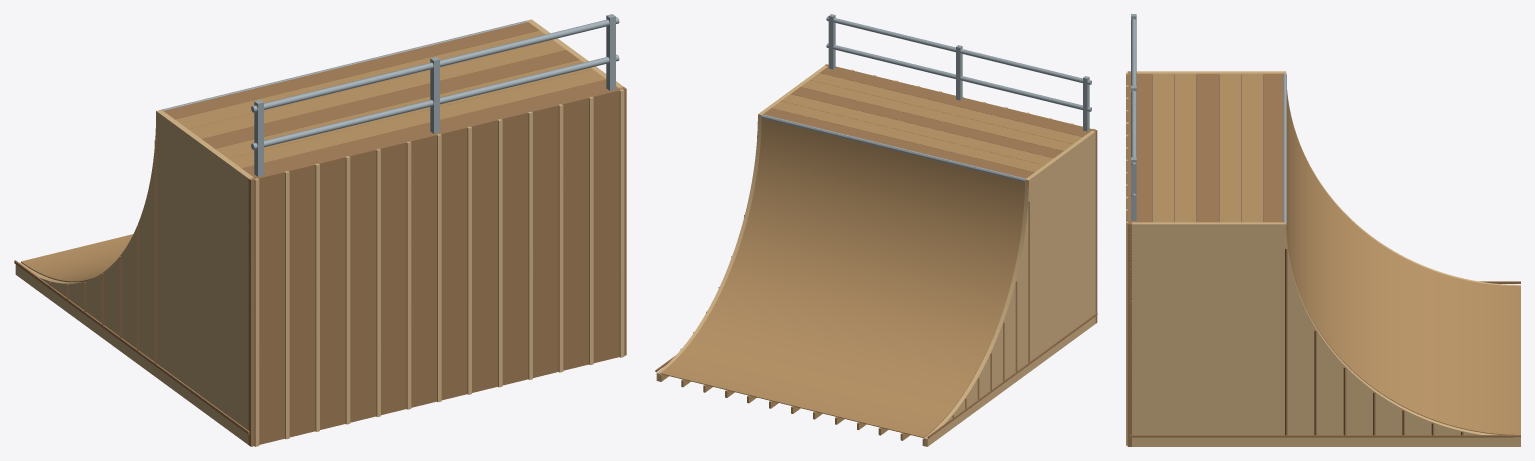
Rendered from skate_qp_round_large.glb.
The picture shows the model from 3 angles, left to right: view 1: azimuth 30°, elevation 25°; view 2: azimuth 150°, elevation 25°; view 3: azimuth 270°, elevation 25°; orthographic projection. The views are drawn at different scales.
Visible parts, largest first — view 1: VISUAL__round_closed_back, VISUAL__round_deck_side_left, VISUAL__round_side_left, VISUAL__round_deck_plank.005, VISUAL__round_deck_plank.003, VISUAL__round_deck_plank.002, VISUAL__round_deck_plank.006, VISUAL__round_deck_plank, VISUAL__round_deck_plank.001, VISUAL__round_deck_plank.004, VISUAL__round_ride, VISUAL__round_backrail_rail (+20 smaller); view 2: VISUAL__round_ride, VISUAL__round_deck_side_left, VISUAL__round_side_left, VISUAL__round_deck_plank.002, VISUAL__round_deck_plank.001, VISUAL__round_deck_plank.003, VISUAL__round_deck_plank.004, VISUAL__round_deck_plank.005, VISUAL__round_deck_plank.006, VISUAL__round_deck_plank, VISUAL__round_backrail_rail.001, VISUAL__round_backrail_rail (+4 smaller); view 3: VISUAL__round_ride, VISUAL__round_deck_side_right, VISUAL__round_side_right, VISUAL__round_deck_plank.001, VISUAL__round_deck_plank.002, VISUAL__round_deck_plank.004, VISUAL__round_deck_plank.005, VISUAL__round_deck_plank.003, VISUAL__round_deck_plank, VISUAL__round_deck_plank.006, VISUAL__round_closed_back, VISUAL__round_base_timber_right (+7 smaller).
Part boxes in pixels (left/top/right/bottom): VISUAL__round_closed_back: left=248, top=87, right=626, bottom=446; VISUAL__round_deck_side_left: left=156, top=109, right=253, bottom=444; VISUAL__round_side_left: left=15, top=128, right=155, bottom=376; VISUAL__round_deck_plank.005: left=229, top=69, right=606, bottom=168; VISUAL__round_deck_plank.003: left=202, top=50, right=579, bottom=148; VISUAL__round_deck_plank.002: left=189, top=40, right=565, bottom=138; VISUAL__round_deck_plank.006: left=242, top=79, right=618, bottom=177; VISUAL__round_deck_plank: left=163, top=22, right=539, bottom=119; VISUAL__round_deck_plank.001: left=175, top=30, right=552, bottom=129; VISUAL__round_deck_plank.004: left=215, top=60, right=592, bottom=158; VISUAL__round_ride: left=21, top=20, right=525, bottom=282; VISUAL__round_backrail_rail: left=251, top=54, right=619, bottom=149; VISUAL__round_ride: left=660, top=115, right=1024, bottom=437; VISUAL__round_deck_side_left: left=1025, top=131, right=1095, bottom=372; VISUAL__round_side_left: left=923, top=180, right=1028, bottom=446; VISUAL__round_deck_plank.002: left=781, top=94, right=1053, bottom=165; VISUAL__round_deck_plank.001: left=771, top=101, right=1043, bottom=172; VISUAL__round_deck_plank.003: left=791, top=87, right=1062, bottom=158; VISUAL__round_deck_plank.004: left=801, top=80, right=1072, bottom=151; VISUAL__round_deck_plank.005: left=810, top=73, right=1082, bottom=143; VISUAL__round_deck_plank.006: left=820, top=66, right=1091, bottom=136; VISUAL__round_deck_plank: left=763, top=108, right=1034, bottom=178; VISUAL__round_backrail_rail.001: left=826, top=16, right=1091, bottom=84; VISUAL__round_backrail_rail: left=826, top=43, right=1091, bottom=111; VISUAL__round_ride: left=1286, top=74, right=1520, bottom=434; VISUAL__round_deck_side_right: left=1130, top=222, right=1286, bottom=446; VISUAL__round_side_right: left=1286, top=231, right=1520, bottom=446; VISUAL__round_deck_plank.001: left=1241, top=73, right=1263, bottom=222; VISUAL__round_deck_plank.002: left=1219, top=73, right=1241, bottom=222; VISUAL__round_deck_plank.004: left=1174, top=73, right=1196, bottom=222; VISUAL__round_deck_plank.005: left=1152, top=73, right=1174, bottom=222; VISUAL__round_deck_plank.003: left=1197, top=73, right=1218, bottom=222; VISUAL__round_deck_plank: left=1264, top=73, right=1286, bottom=222; VISUAL__round_deck_plank.006: left=1130, top=73, right=1151, bottom=222; VISUAL__round_closed_back: left=1127, top=71, right=1131, bottom=446; VISUAL__round_base_timber_right: left=1130, top=435, right=1520, bottom=437.
Bounding box in the file's own units: 4.67 × 4 × 5.05.
